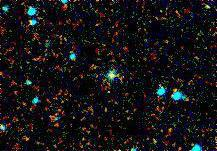star: (100, 62, 130, 92)
